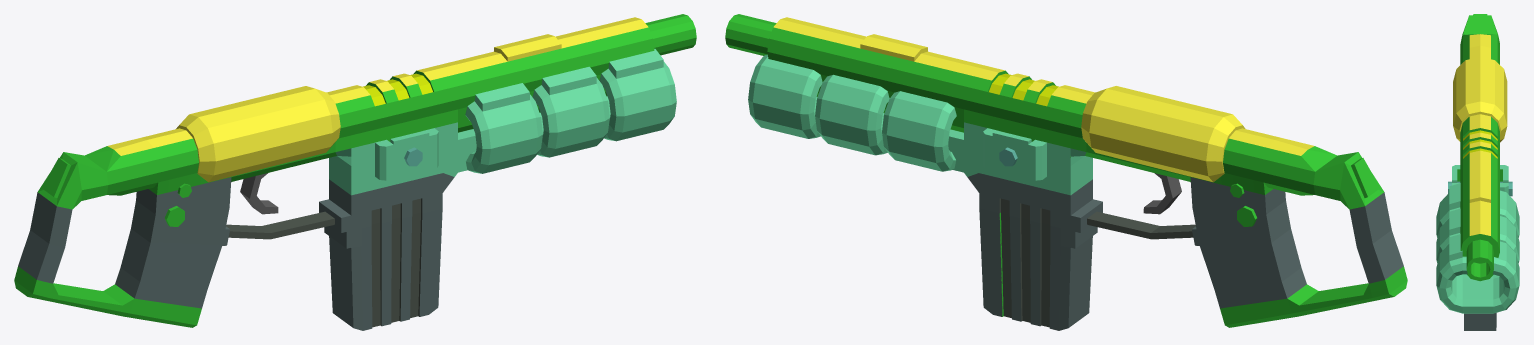
The model's file is smgg.fbx.
3 renders of one model, left to right at view 1: azimuth 30°, elevation 25°; view 2: azimuth 150°, elevation 25°; view 3: azimuth 270°, elevation 25°, orthographic. The views are drawn at different scales.
Visible parts, largest first — view 1: Circle.001, Torus, Circle, Plane, Cylinder.002; view 2: Circle.001, Torus, Circle, Plane, Cylinder.002; view 3: Circle.001, Torus, Circle, Cylinder.006.
Part boxes in pixels (<box>): Circle.001: <box>14,14,696,330</box>; Torus: <box>465,49,676,173</box>; Circle: <box>176,86,340,182</box>; Plane: <box>226,211,334,239</box>; Cylinder.002: <box>240,173,278,214</box>; Circle.001: <box>725,14,1407,330</box>; Torus: <box>748,54,956,171</box>; Circle: <box>1081,86,1245,182</box>; Plane: <box>1087,211,1195,239</box>; Cylinder.002: <box>1143,173,1181,214</box>; Circle.001: <box>1452,14,1508,330</box>; Torus: <box>1436,183,1519,313</box>; Circle: <box>1453,57,1507,142</box>; Cylinder.006: <box>1448,181,1512,196</box>.
Size of the model in its own units: 6351 by 2222 by 880.
